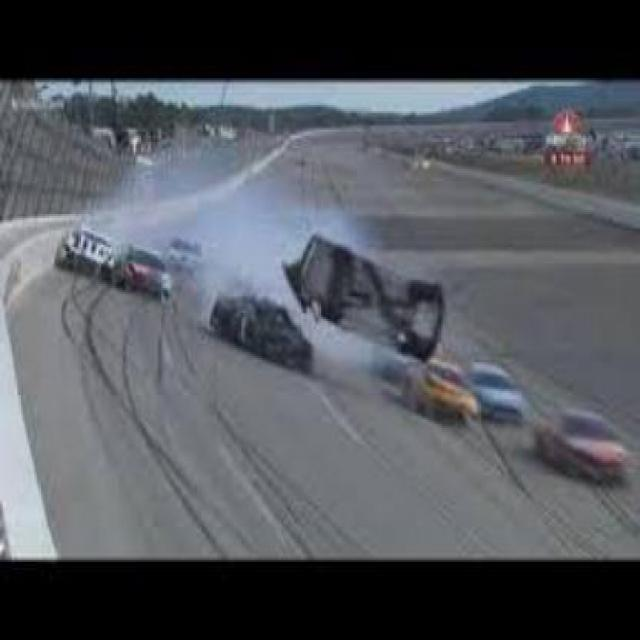accident: (286, 218, 448, 366)
